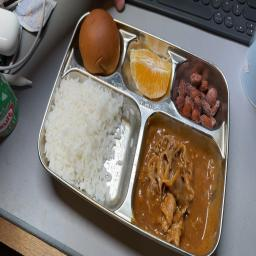100_bread: (80, 5, 122, 78)
100_nuts: (177, 66, 222, 128)
100_orange: (128, 41, 174, 103)
100_rice: (34, 67, 142, 215)
75_beef: (130, 113, 224, 250)
